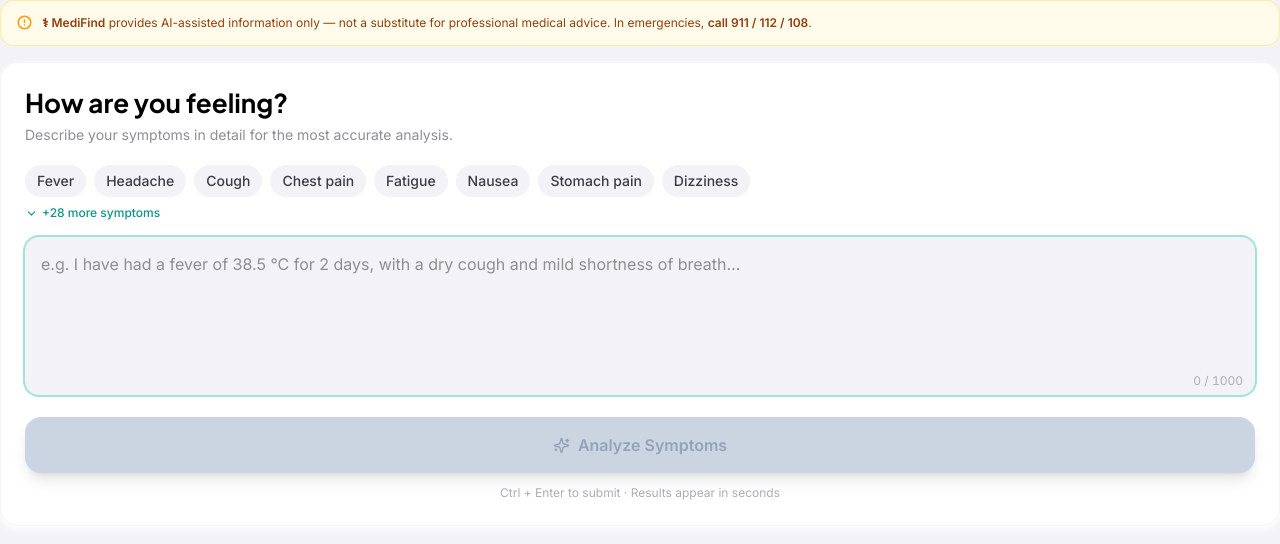
Test: SymptomInput › clicking a quick-symptom chip appends it to the textarea
Step 1. Click the button "Fever" → (56, 181), box [25, 165, 86, 197]
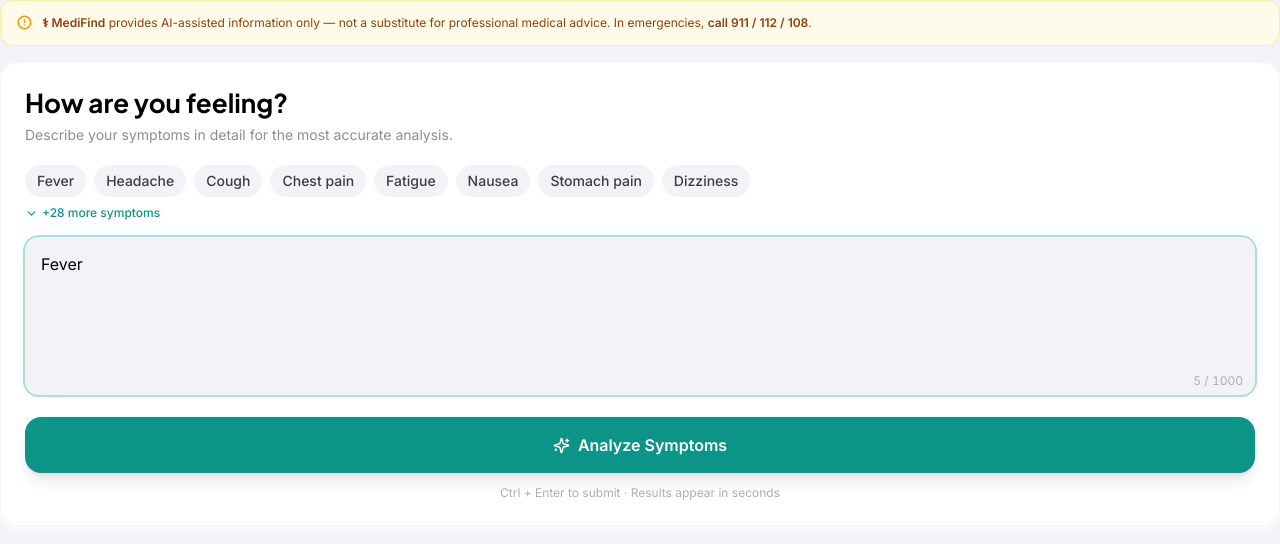
Step 2. Click the button "Headache" → (140, 181), box [94, 165, 186, 197]
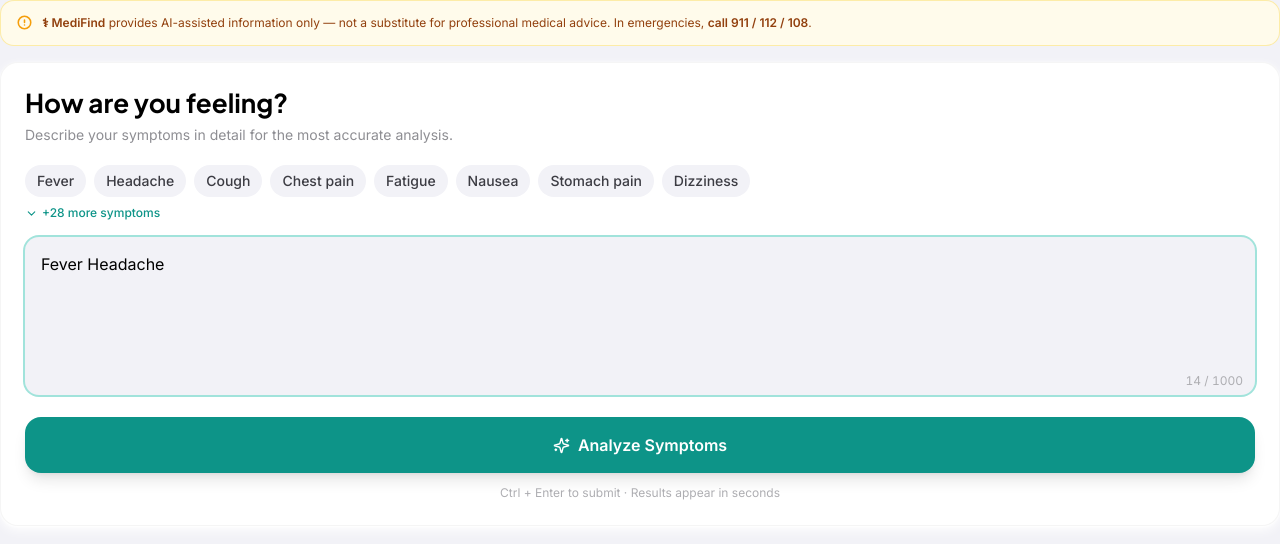
Expected: the text box named "Symptom description" holds "Fever Headache", [25, 237, 1255, 395]
